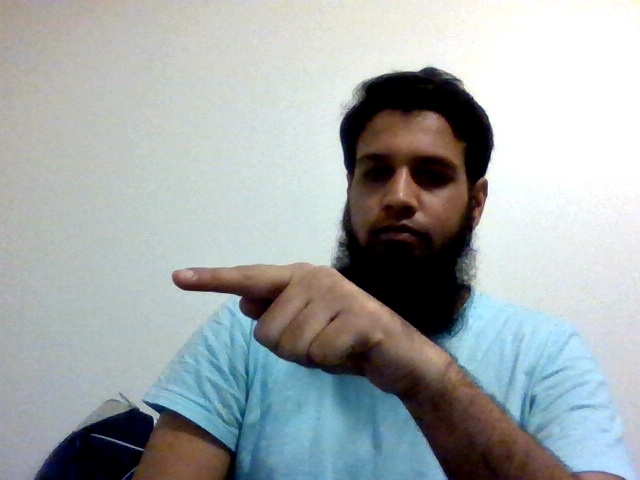you: (164, 259, 411, 395)
